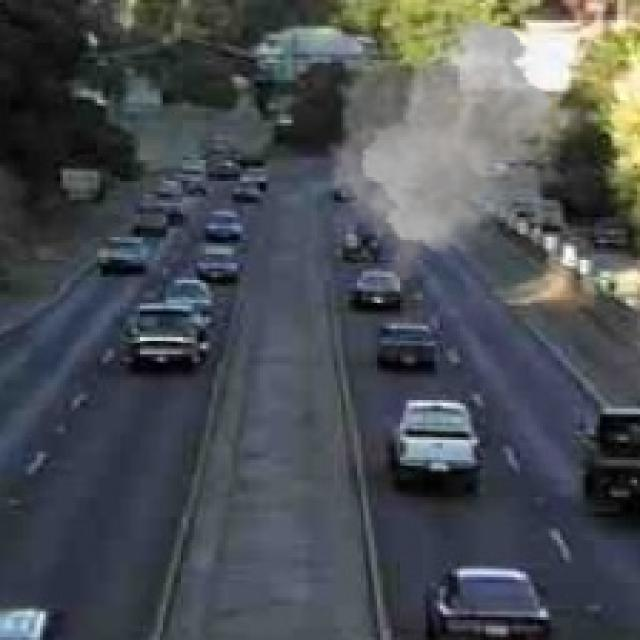Smoke: (323, 12, 606, 292)
